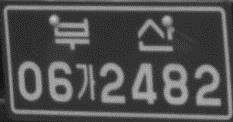0: (16, 59, 43, 102)
2: (194, 62, 223, 109), (98, 61, 127, 106)
4: (129, 62, 157, 107)
6: (46, 59, 74, 102)
8: (160, 61, 189, 107)
가: (74, 61, 97, 102)
부산_D: (50, 15, 176, 53)
